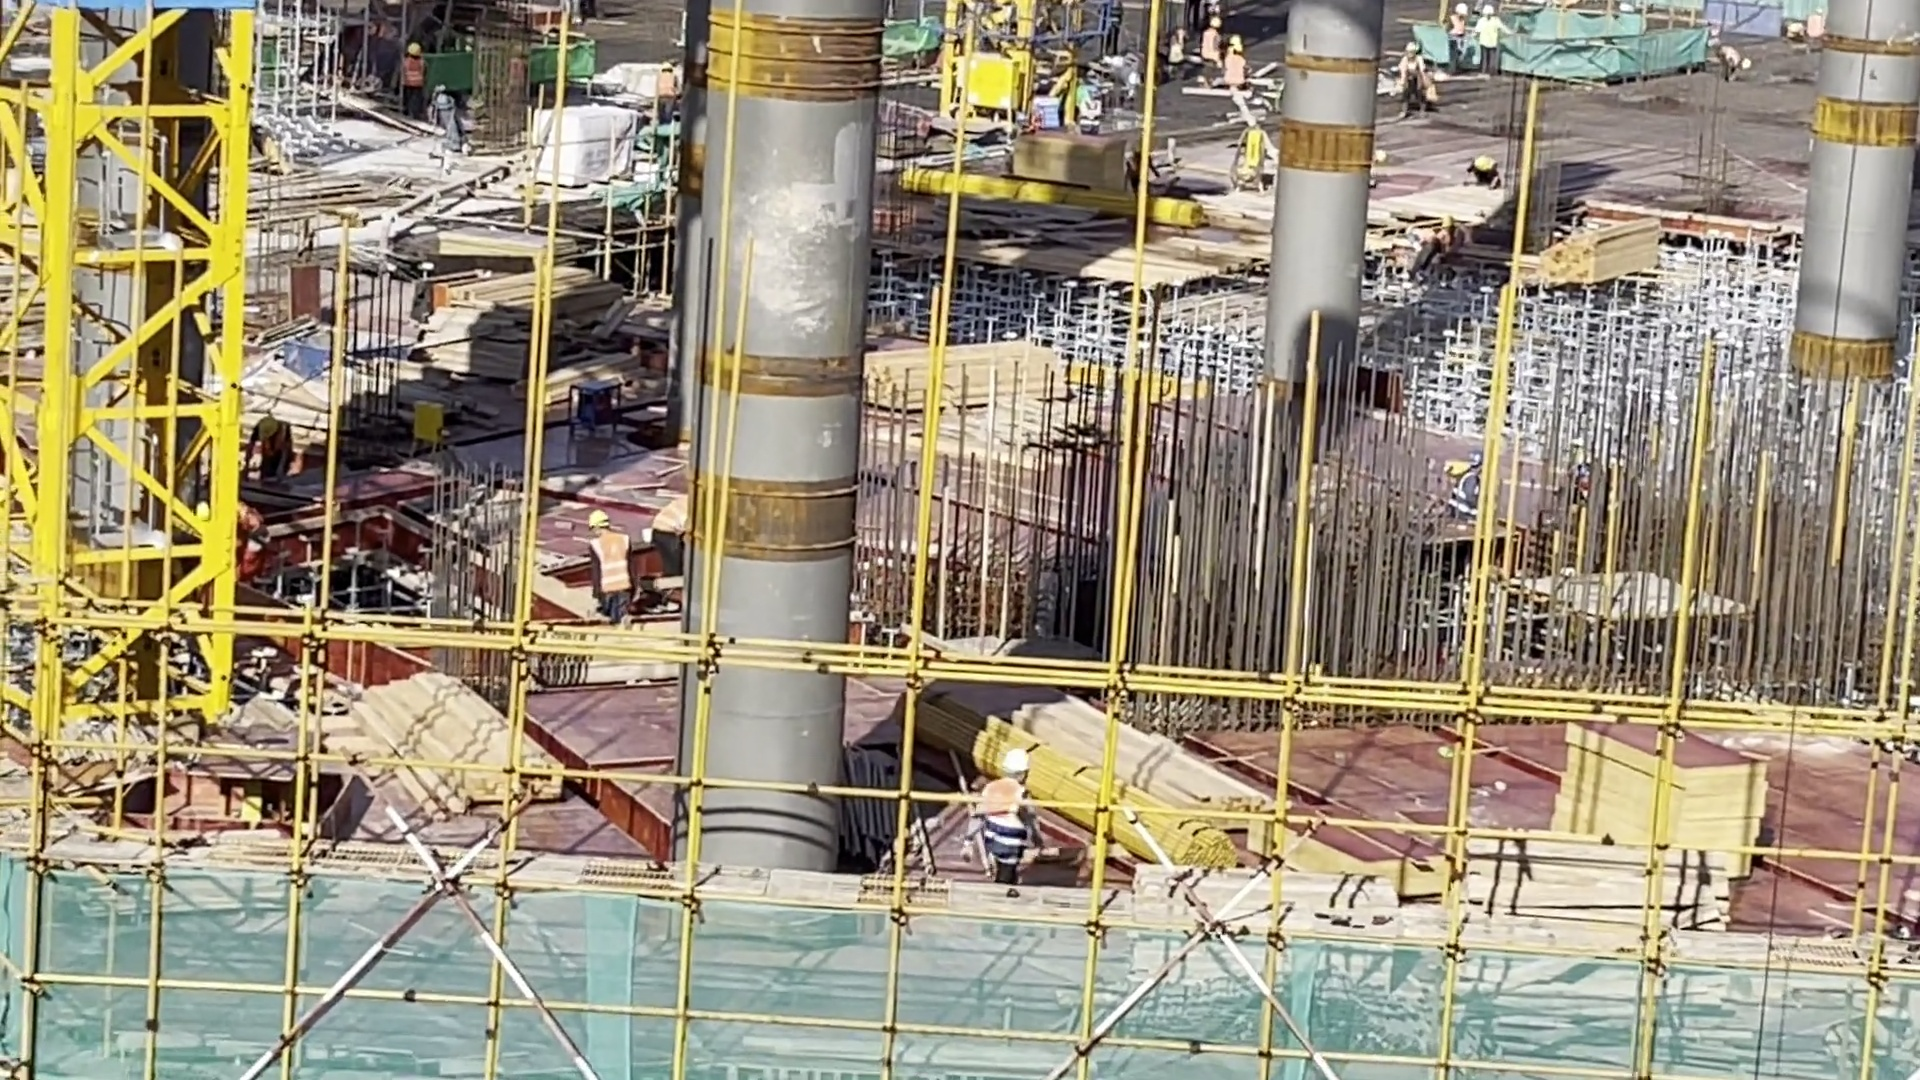board: (1559, 734, 1771, 885), (425, 268, 624, 380)
helmet: (1006, 748, 1028, 773), (587, 509, 610, 528)
person: (970, 743, 1039, 887), (577, 503, 636, 630)
vest: (982, 784, 1033, 860), (589, 535, 630, 597)
wood: (1040, 696, 1270, 869), (1471, 823, 1724, 930), (361, 673, 558, 799), (865, 341, 1053, 406), (1539, 222, 1662, 287)
